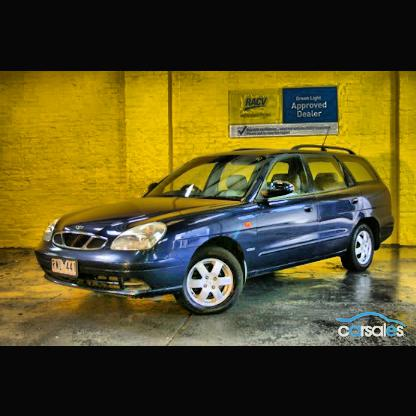Daewoo Nubira Wagon 2002: (34, 129, 397, 317)
